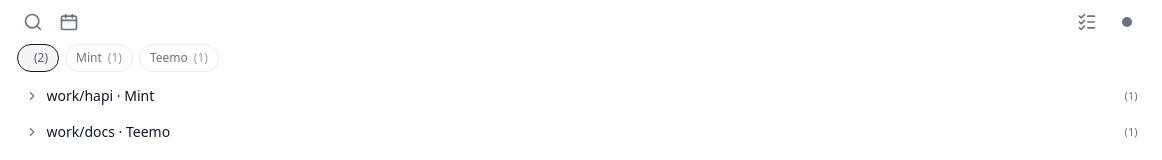
Test: SessionList machine filter › filters directory groups when a machine chip is selected
The width and height of the screenshot is (1162, 160).
Click the button "Teemo (1)": click(179, 58) [139,44,219,72]
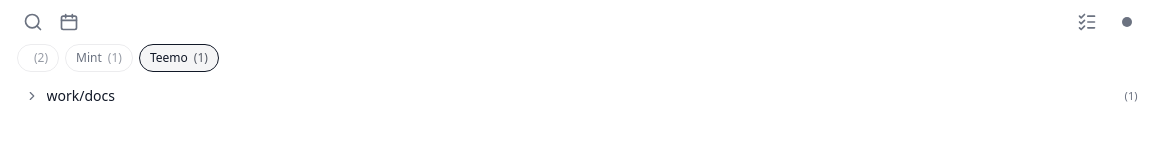
Expected: the element titled "/work/docs" is shown, [16,80,1146,112]
Now the element titled "/work/hapi" is gone
